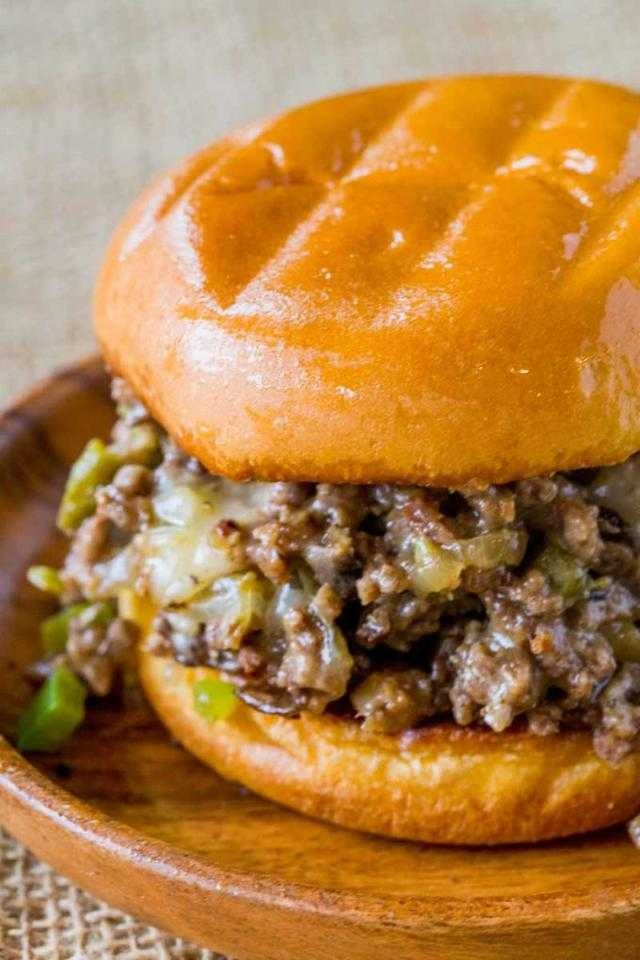hamburger: (97, 53, 640, 834)
